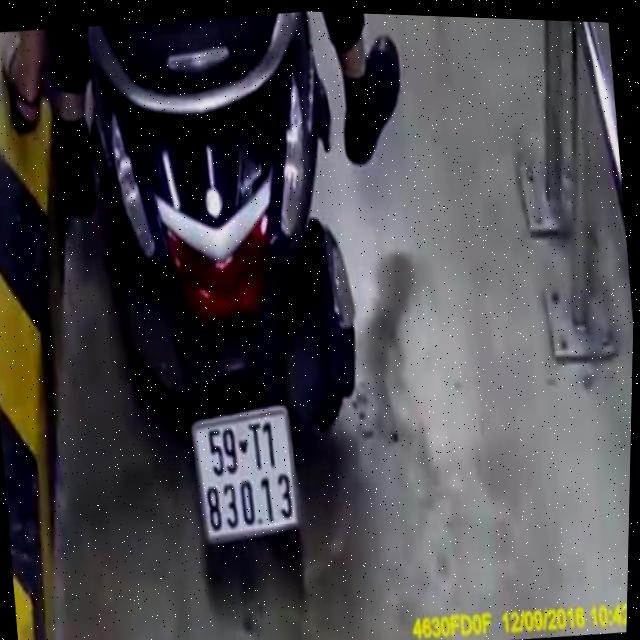motorcycle: (48, 2, 394, 634)
plate: (183, 398, 309, 547)
